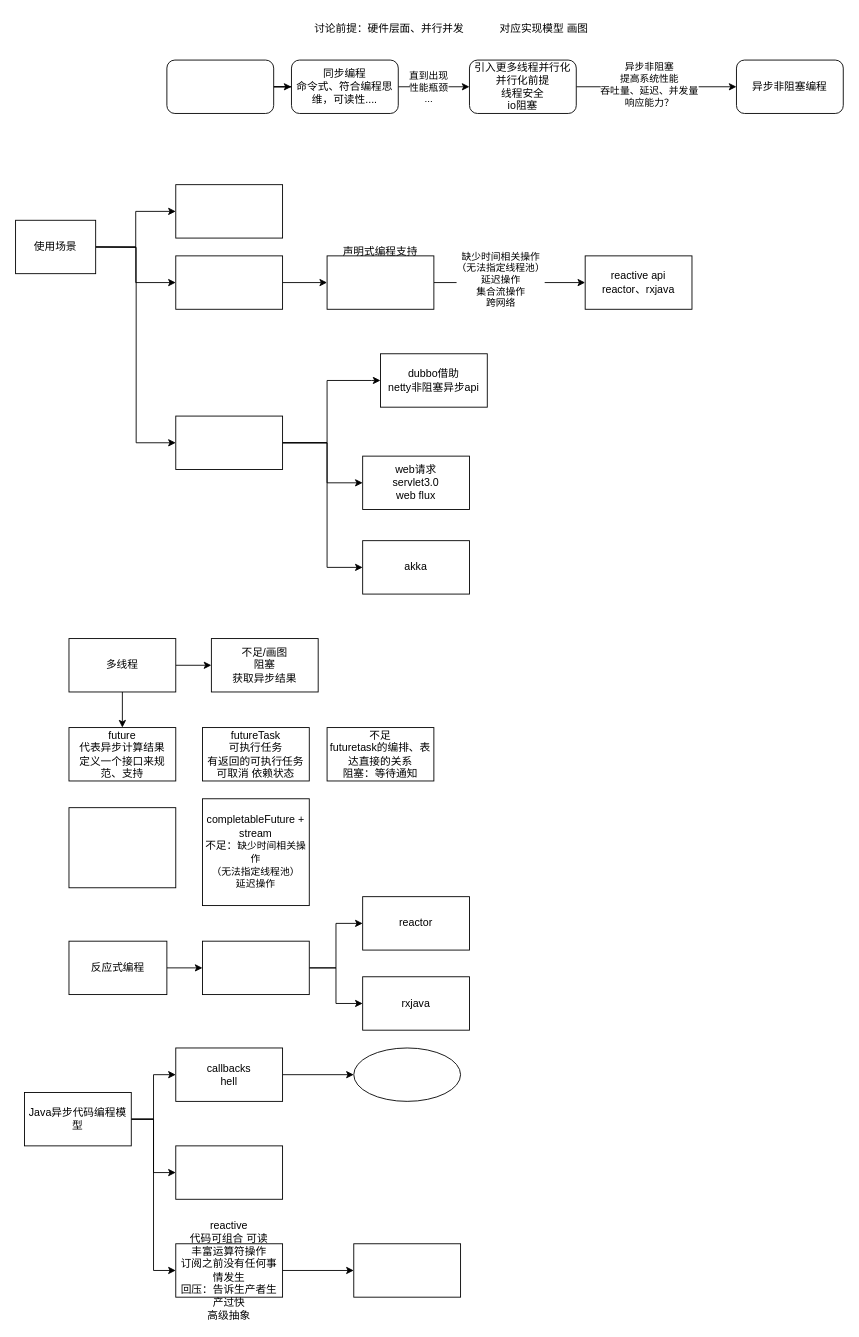
The diagram is 859 pixels wide and 1337 high, and some of its shapes have lost their labels. Here are the shapes that lost their labels. From the top down, the centre of each, then its label:
At pixel 220 86: "异步编程".
At pixel 229 211: "日常业务场景".
At pixel 229 282: "中间件支持 底层支持".
At pixel 380 282: "future completableFuture jdk8 stream".
At pixel 229 442: "跨网络交互".
At pixel 122 847: "completableFuture 直接操作任务状态、结果、作为计算阶段去编排 指定线程池 异常处理".
At pixel 255 967: "reactive api".
At pixel 407 1074: "回调爆炸例子".
At pixel 229 1172: "futures 不能支持延迟计算 高级错误处理".
At pixel 407 1270: "规范".
